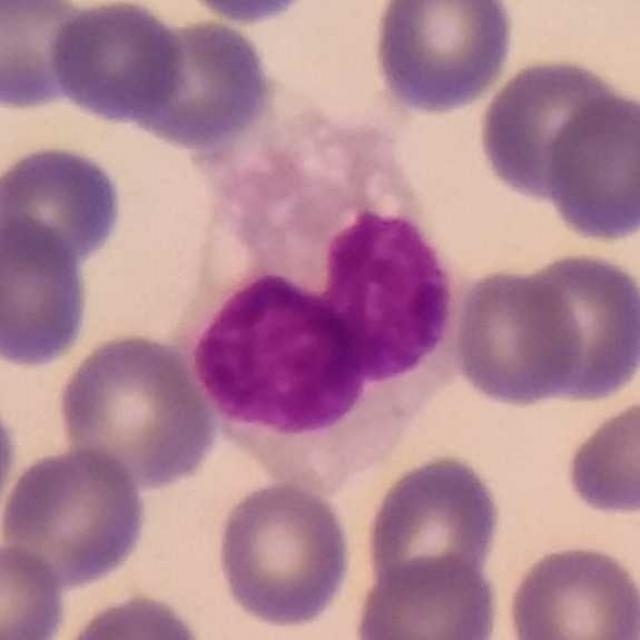mono: (176, 70, 460, 508)
